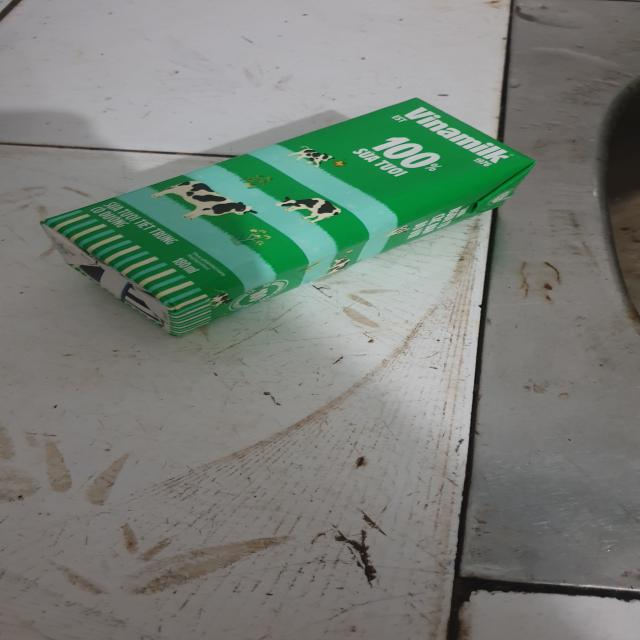Vina: (42, 94, 540, 340)
